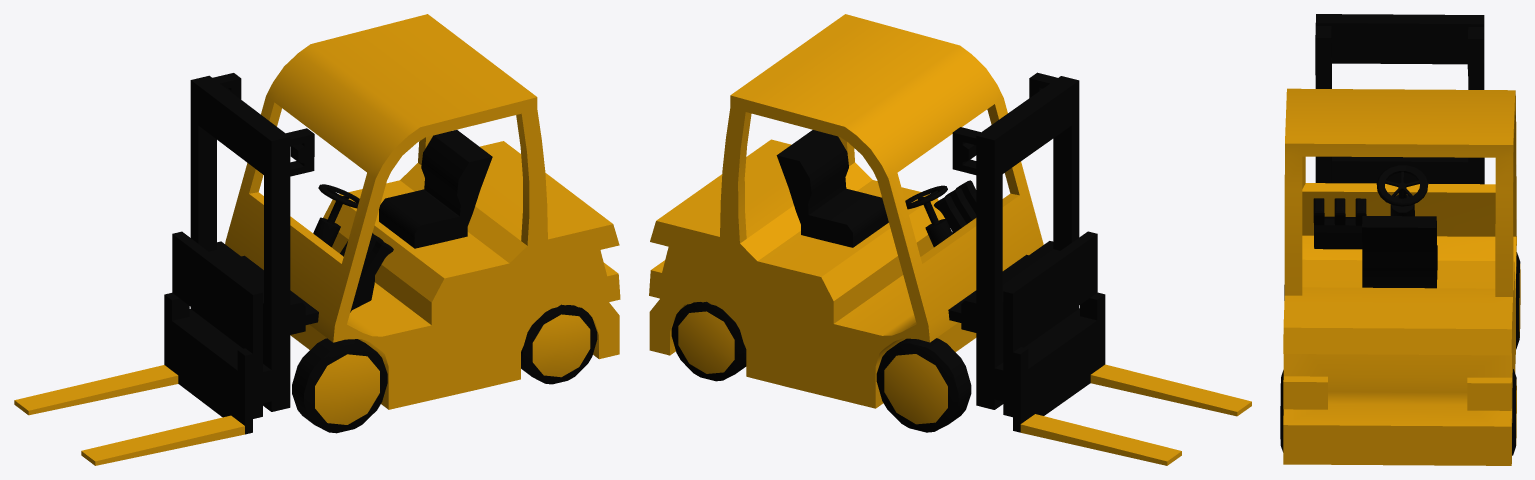
File: forklift.fbx
3 renders of one model, left to right at view 1: azimuth 30°, elevation 25°; view 2: azimuth 150°, elevation 25°; view 3: azimuth 270°, elevation 25°, orthographic.
Visible parts, largest first — view 1: forklift; view 2: forklift; view 3: forklift.
Boxes of the visible parts, x1,y1,x2,y2 form: forklift: (14,14,620,465); forklift: (649,14,1251,465); forklift: (1280,14,1520,465).
Size of the model in its own units: 1392 by 772 by 559.
